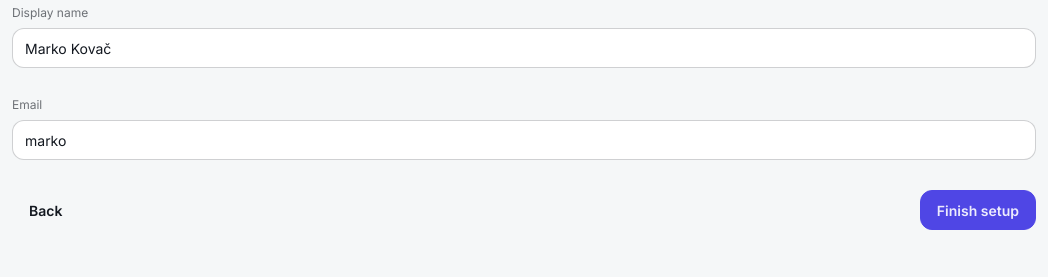
Test case: AC3: a malformed email blocks the submit › rejects marko with the format message
Click the button "Finish setup". click: (978, 210)
box: [920,190,1036,230]
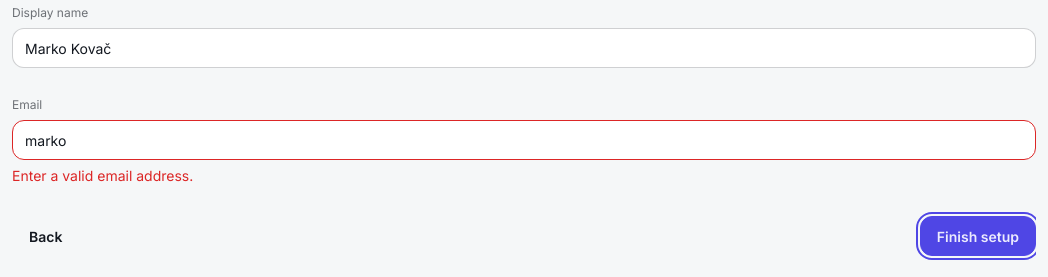
Result: the text "Enter a valid email address." is shown at [12,167,193,184]
